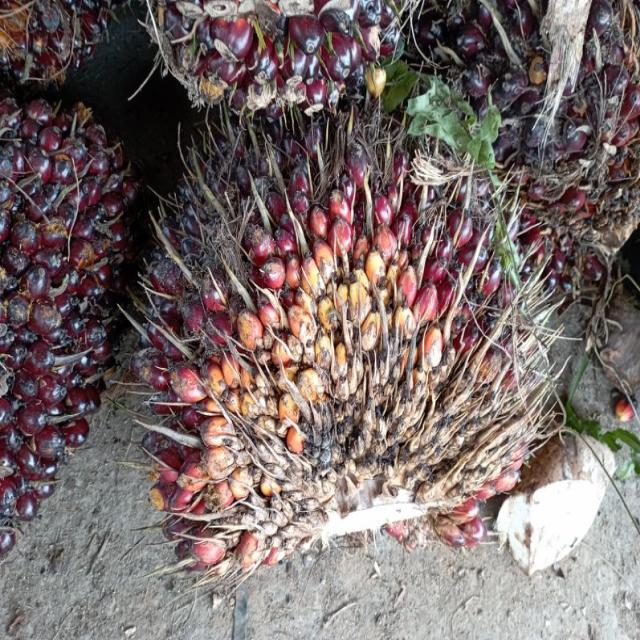fraksi 1: (147, 96, 555, 550)
